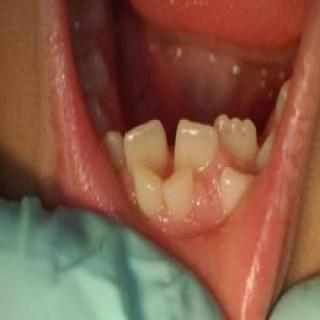maligned: (121, 116, 173, 169), (215, 106, 259, 162), (172, 110, 208, 170), (215, 166, 253, 212), (131, 159, 162, 211), (162, 166, 194, 216)
